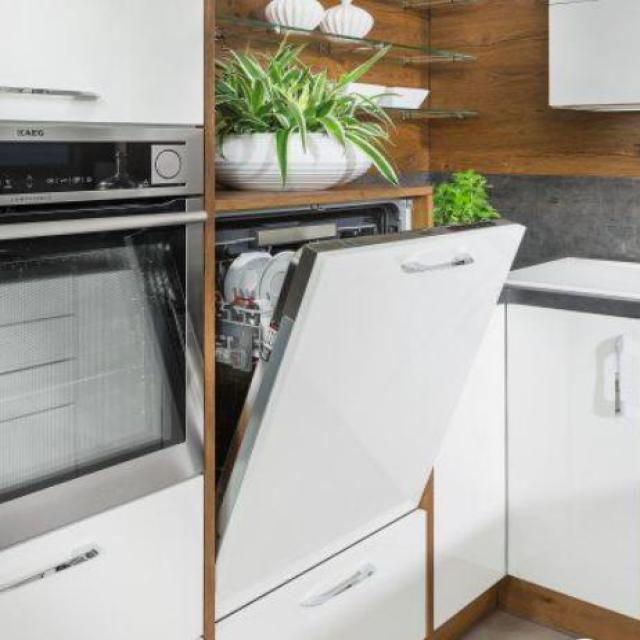dishwasher: (199, 183, 532, 626)
